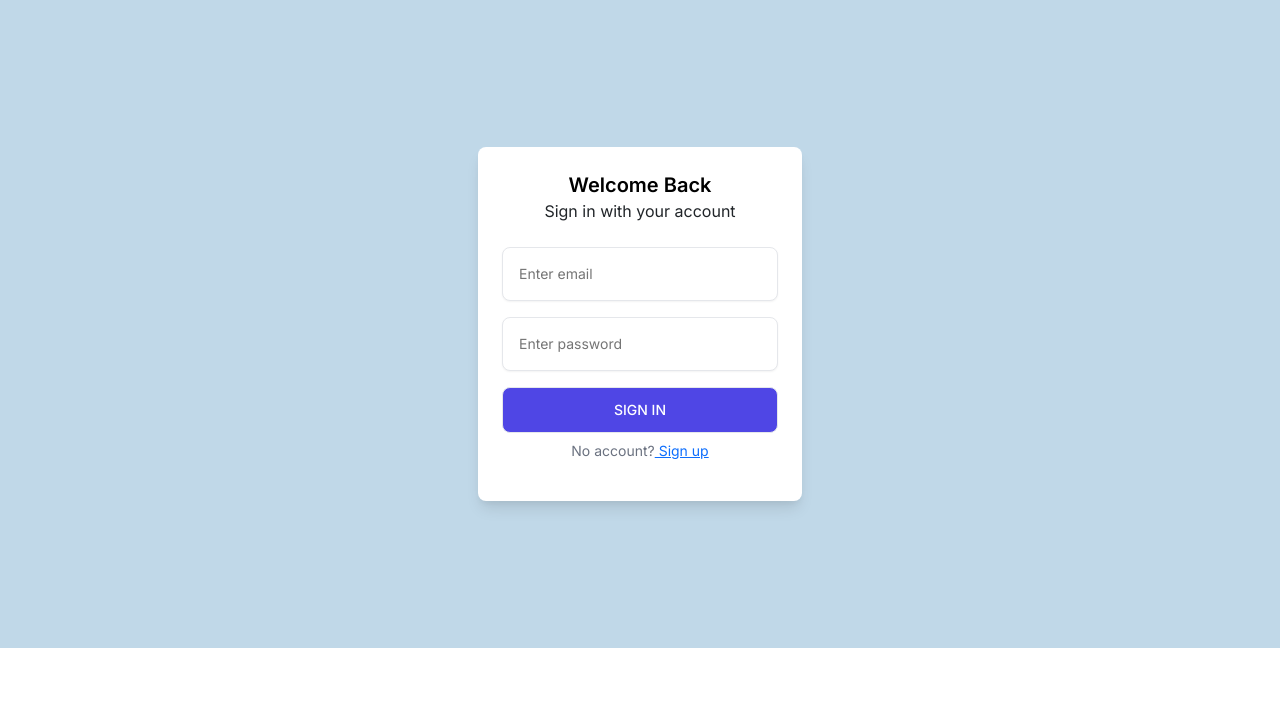
Sign In Form › should display validation errors when fields are empty
# Try to submit the form without filling out any fields
Click the button with test id "submit-button". click: [640, 410]
box: [502, 387, 778, 433]
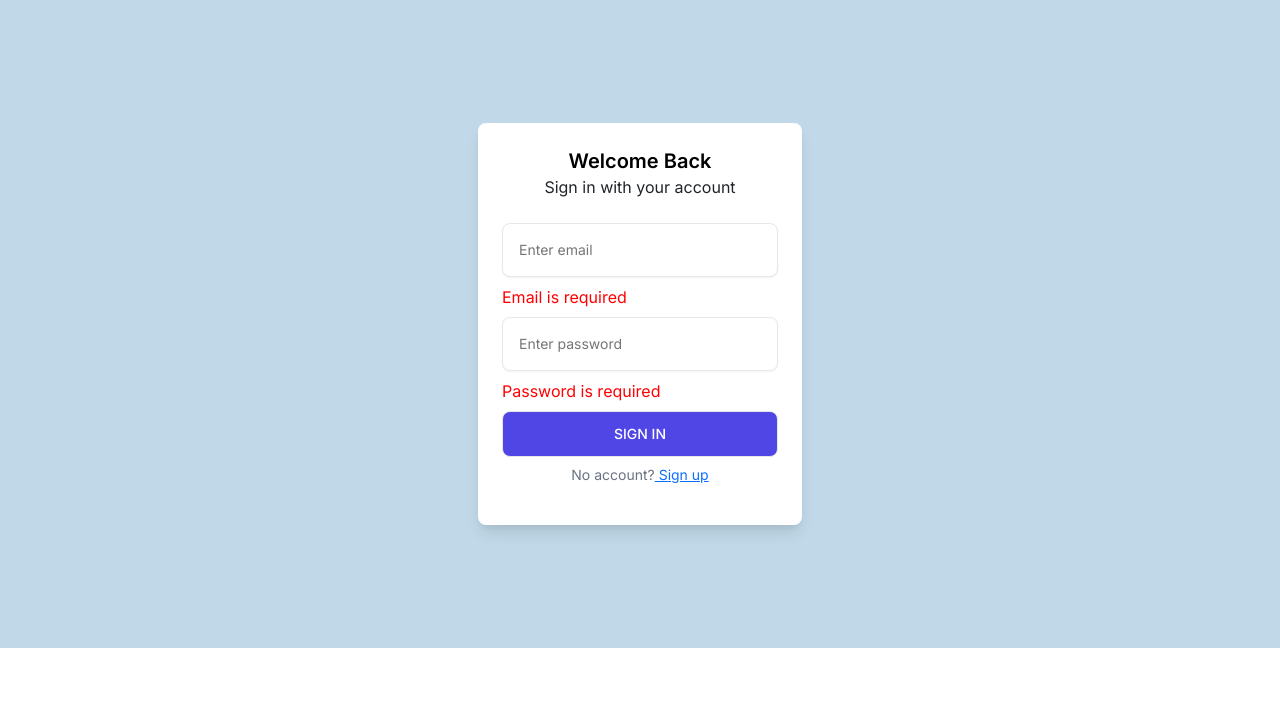
expect the text with test id "email-error" reads "Email is required": met, box [502, 287, 627, 307]
expect the text "Password is required" is shown: met, box [502, 381, 660, 401]
expect the text with test id "password-error" reads "Password is required": met, box [502, 381, 661, 401]
